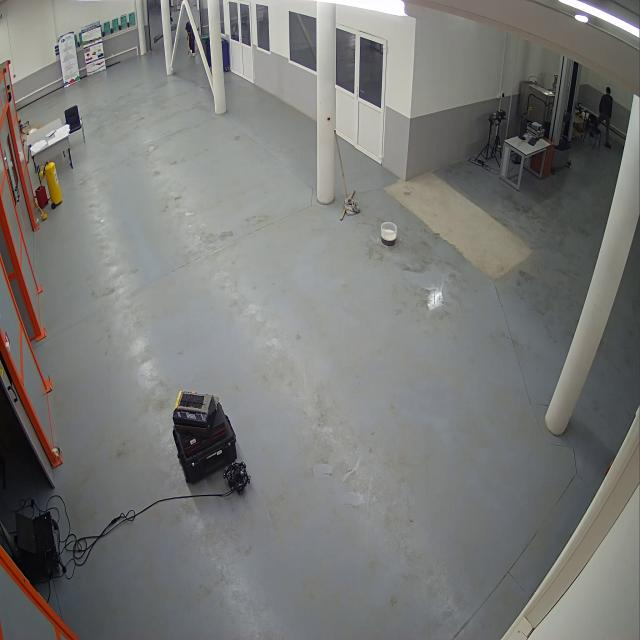NO-Hardhat: (606, 86, 612, 94)
Person: (590, 85, 614, 153), (185, 16, 198, 59)
